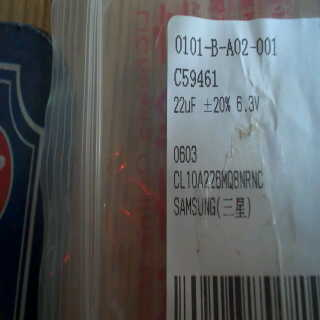22uF: (167, 93, 200, 112)
